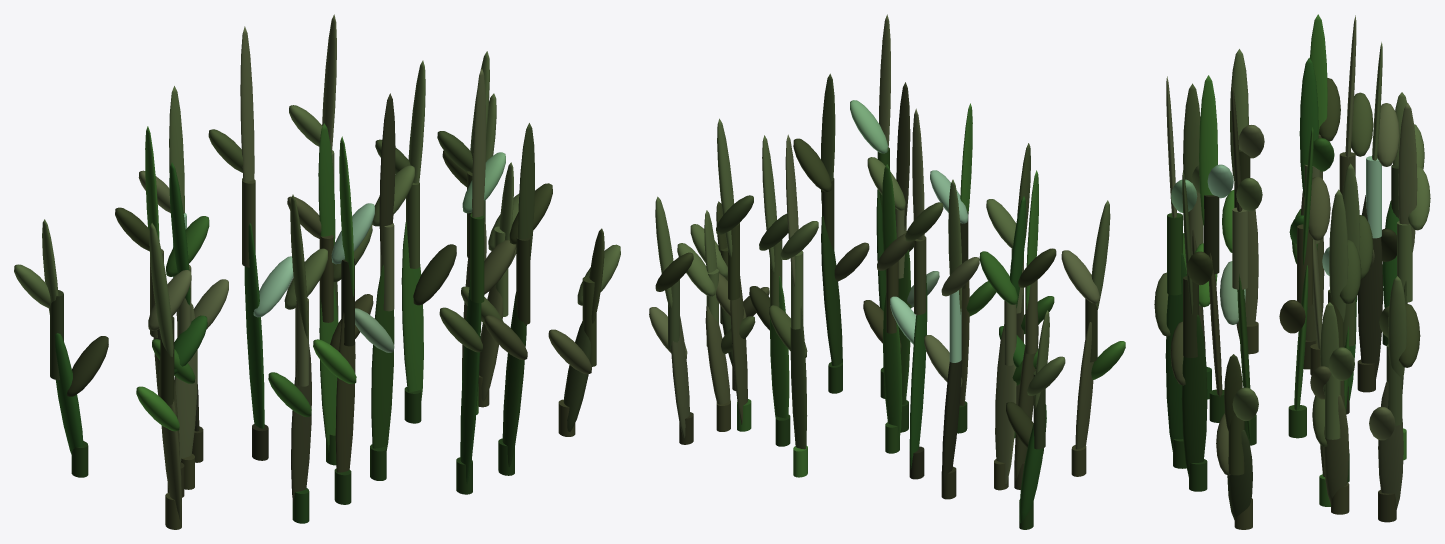
Rendered from CMU3DRMCBushi1.glb.
3 views of the same model, side by side, from view 1: azimuth 30°, elevation 25°; view 2: azimuth 150°, elevation 25°; view 3: azimuth 270°, elevation 25° (orthographic). The views are drawn at different scales.
Visible parts, largest first — view 1: reed 9 lower blade, reed 12 lower blade, reed 6 lower blade, reed 11 lower blade, reed 13 lower blade, reed 7 lower blade, reed 9 tapered tip, reed 5 lower blade, reed 6 tapered tip, reed 0 lower blade, reed 11 tapered tip, reed 1 tapered tip (+53 smaller); view 2: reed 3 lower blade, reed 13 lower blade, reed 6 lower blade, reed 10 lower blade, reed 8 lower blade, reed 4 lower blade, reed 12 lower blade, reed 14 lower blade, reed 15 lower blade, reed 1 lower blade, reed 9 tapered tip, reed 16 lower blade (+61 smaller); view 3: reed 13 lower blade, reed 4 lower blade, reed 10 tapered tip, reed 11 lower blade, reed 14 tapered tip, reed 7 tapered tip, reed 16 lower blade, reed 15 lower blade, reed 3 tapered tip, reed 16 tapered tip, reed 5 tapered tip, reed 9 slender blade rib (+69 smaller).
Part boxes in pixels (x1,y1,x2,y2): reed 9 lower blade: (371, 265, 394, 450); reed 12 lower blade: (401, 221, 423, 400); reed 6 lower blade: (244, 223, 264, 428); reed 11 lower blade: (460, 280, 481, 484); reed 13 lower blade: (502, 292, 526, 467); reed 7 lower blade: (335, 312, 355, 472); reed 9 tapered tip: (379, 93, 395, 254); reed 5 lower blade: (291, 344, 311, 504); reed 6 tapered tip: (240, 26, 254, 181); reed 0 lower blade: (55, 333, 83, 454); reed 11 tapered tip: (472, 68, 486, 217); reed 1 tapered tip: (149, 223, 173, 356); reed 3 lower blade: (995, 324, 1016, 484); reed 13 lower blade: (821, 215, 842, 365); reed 6 lower blade: (909, 276, 927, 469); reed 10 lower blade: (790, 306, 807, 449); reed 8 lower blade: (883, 293, 902, 440); reed 4 lower blade: (942, 320, 962, 490); reed 12 lower blade: (770, 276, 789, 418); reed 14 lower blade: (730, 276, 747, 424); reed 15 lower blade: (705, 305, 730, 404); reed 1 lower blade: (1075, 322, 1093, 449); reed 9 tapered tip: (896, 82, 910, 230); reed 16 lower blade: (671, 316, 689, 438); reed 13 lower blade: (1181, 315, 1207, 476); reed 4 lower blade: (1357, 195, 1383, 381); reed 10 tapered tip: (1398, 103, 1417, 251); reed 11 lower blade: (1165, 253, 1186, 451); reed 14 tapered tip: (1329, 189, 1348, 321); reed 7 tapered tip: (1199, 75, 1217, 226); reed 16 lower blade: (1378, 381, 1403, 509); reed 15 lower blade: (1323, 395, 1349, 503); reed 3 tapered tip: (1299, 57, 1318, 197); reed 16 tapered tip: (1388, 276, 1406, 379); reed 5 tapered tip: (1183, 83, 1200, 182); reed 9 slender blade rib: (1232, 207, 1248, 289).
Size of the model in its own units: 0.8352 by 0.6624 by 0.4198.
